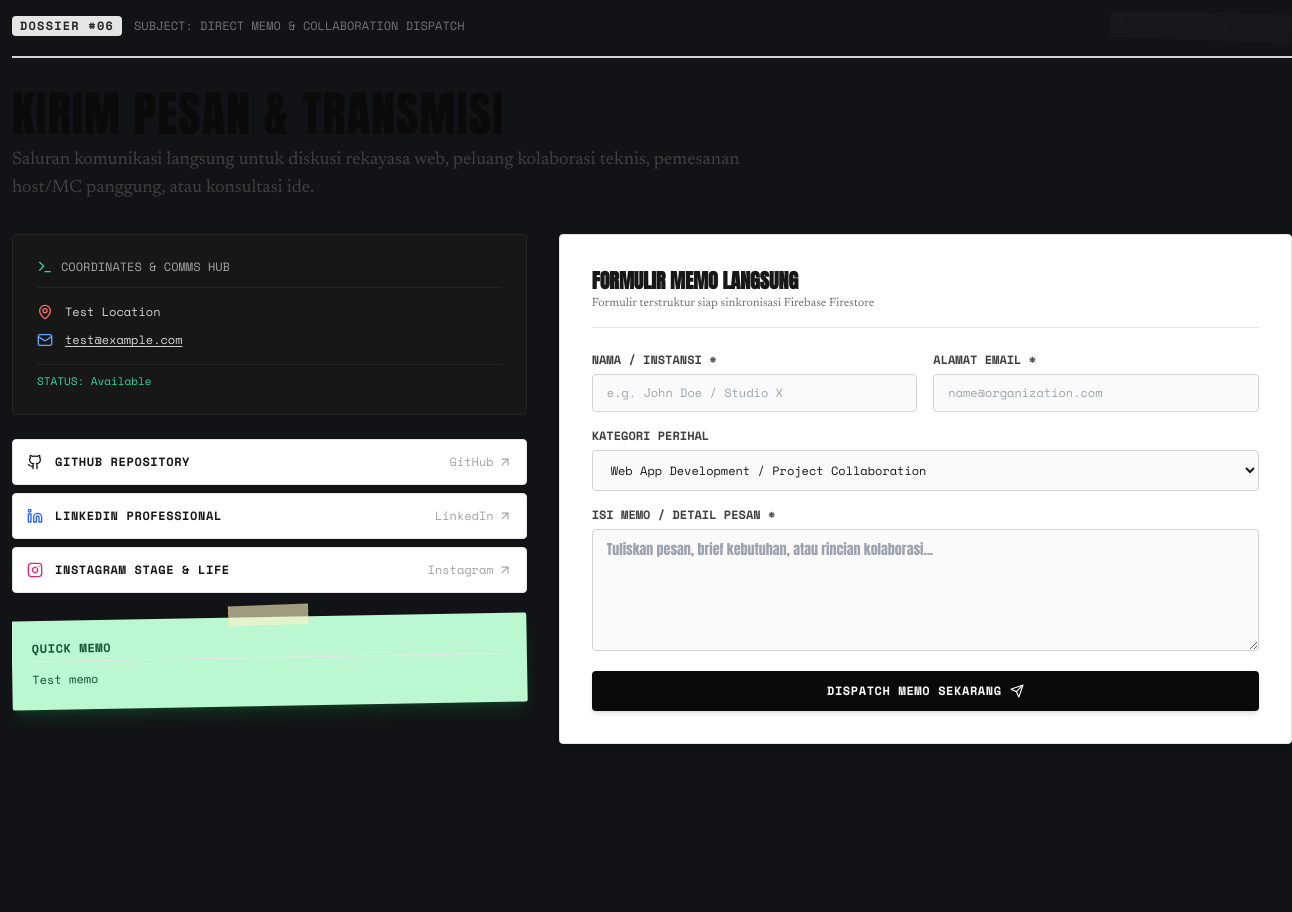
Test: ContactSection › displays success message on successful submission
// Fill out the form
Type "Test User" into the field labelled "Nama / Instansi *".
click(755, 393); type("Test User")  # box left=592, top=374, right=917, bottom=412
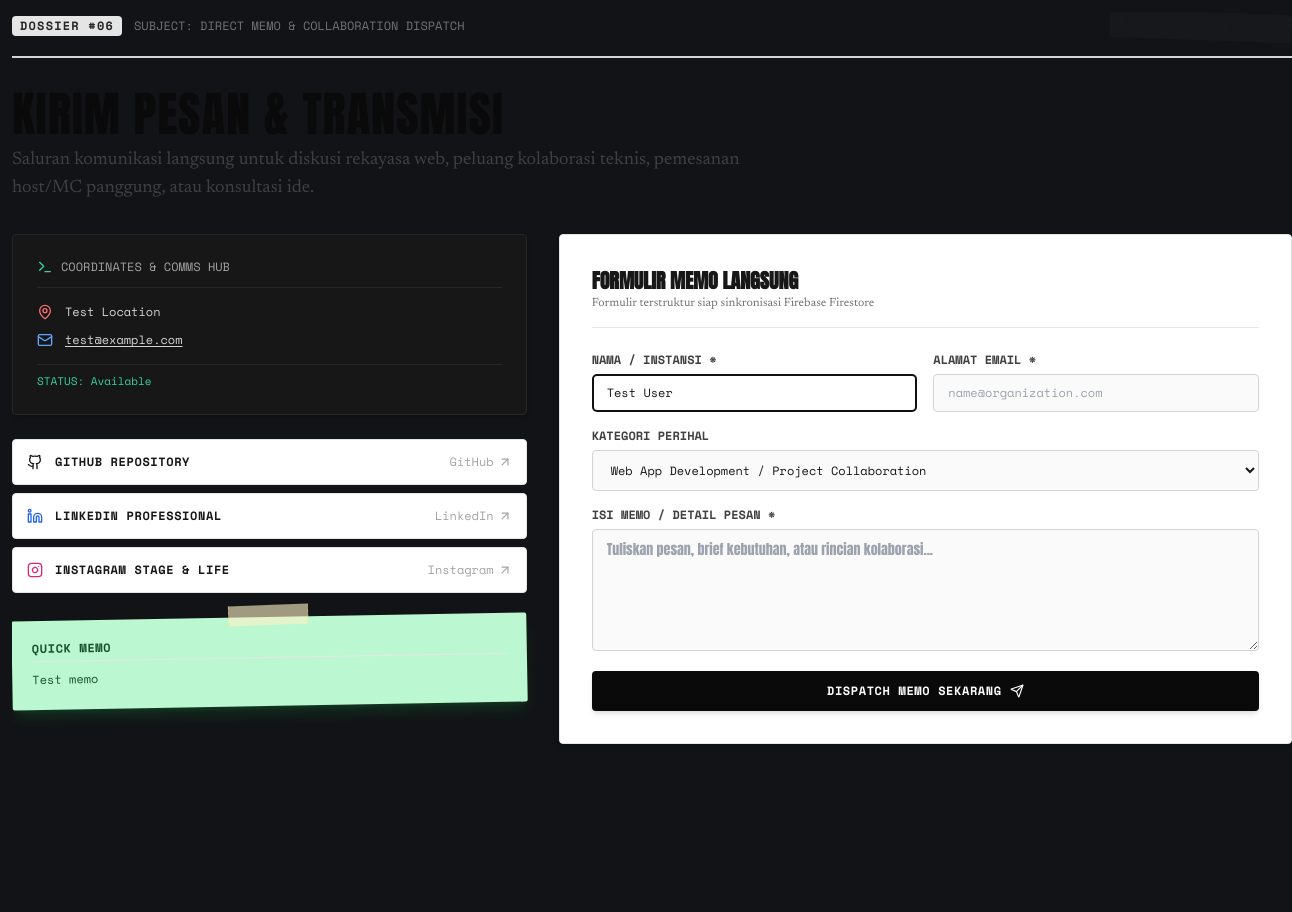
Type "user@test.com" into the field labelled "Alamat Email *".
click(1096, 393); type("user@test.com")  # box left=933, top=374, right=1259, bottom=412
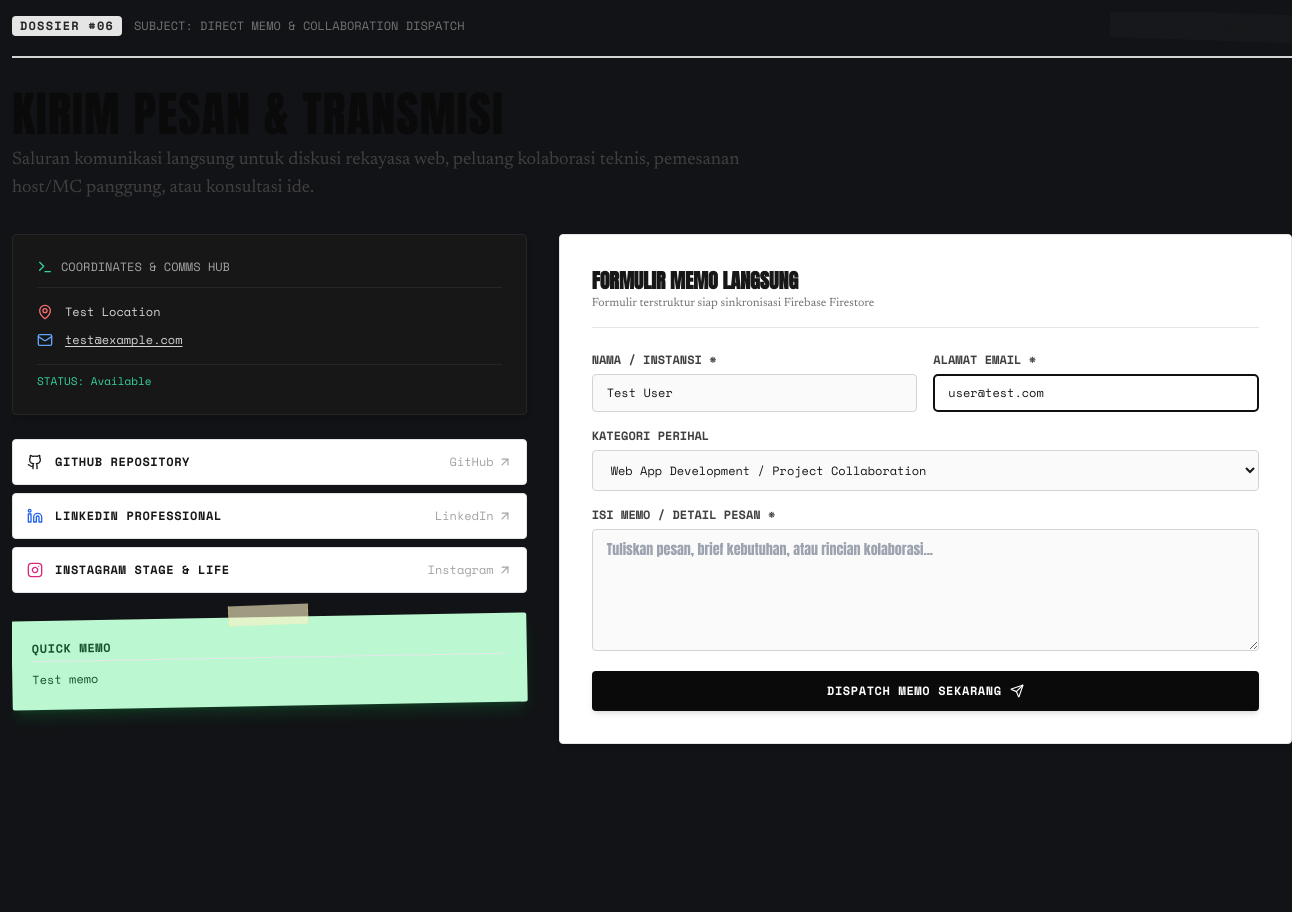
Type "This is a test message" into the text box labelled "Isi Memo / Detail Pesan *".
click(925, 590); type("This is a test message")  # box left=592, top=529, right=1259, bottom=651
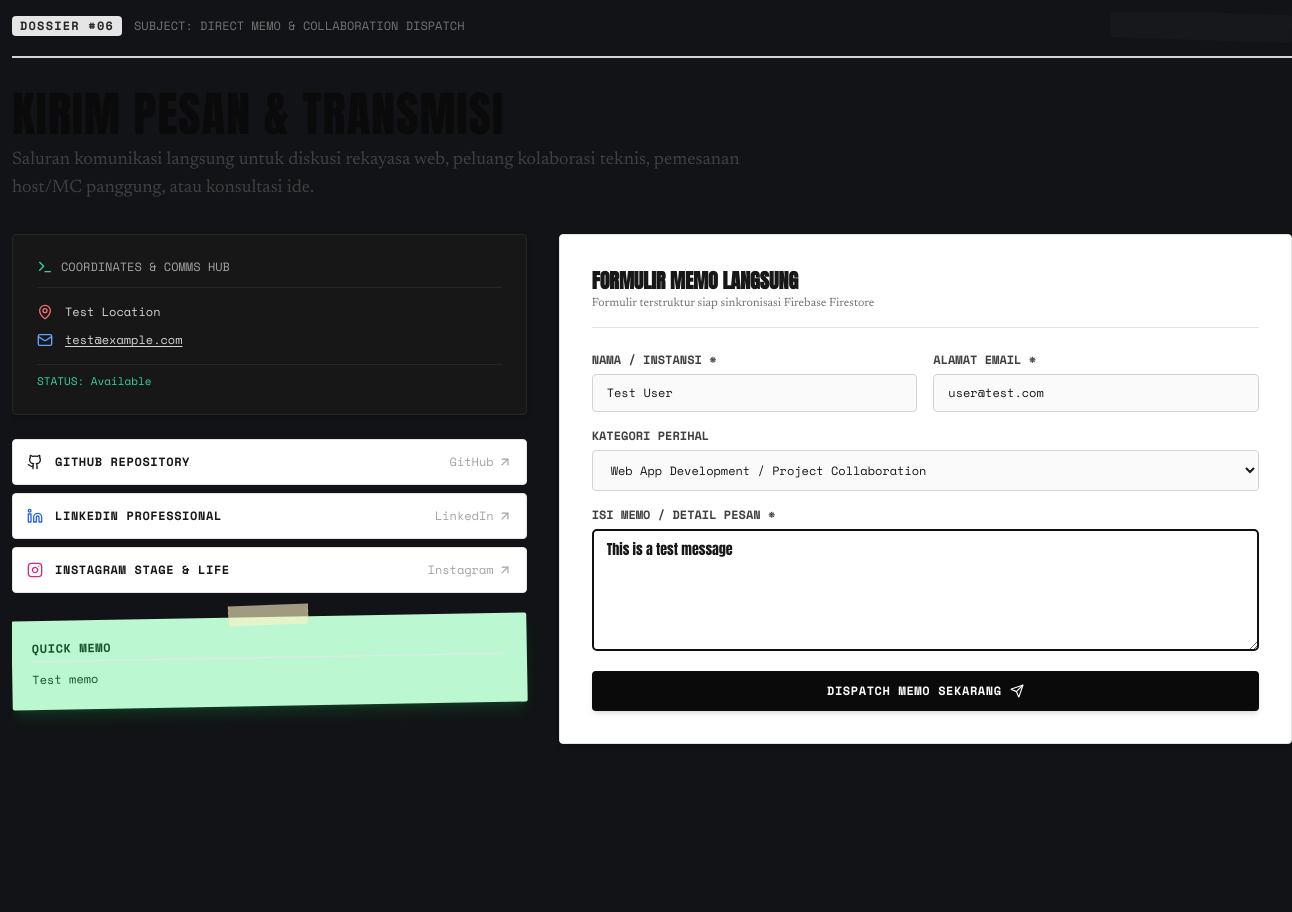
// Submit form
Click the button "DISPATCH MEMO SEKARANG".
click(925, 691)  # box left=592, top=671, right=1259, bottom=711
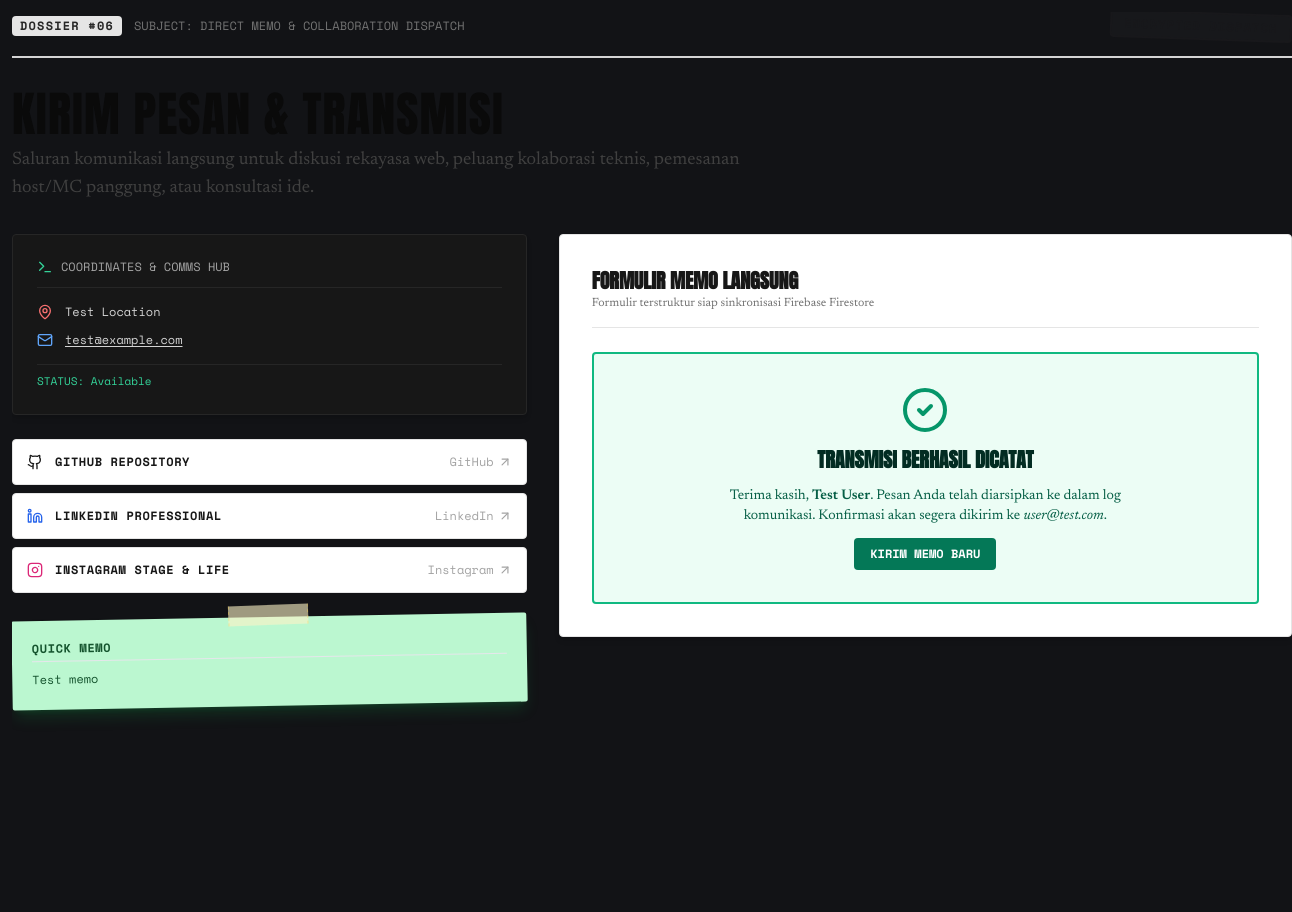
Expected: the heading "TRANSMISI BERHASIL DICATAT" is shown, left=817, top=444, right=1033, bottom=475
